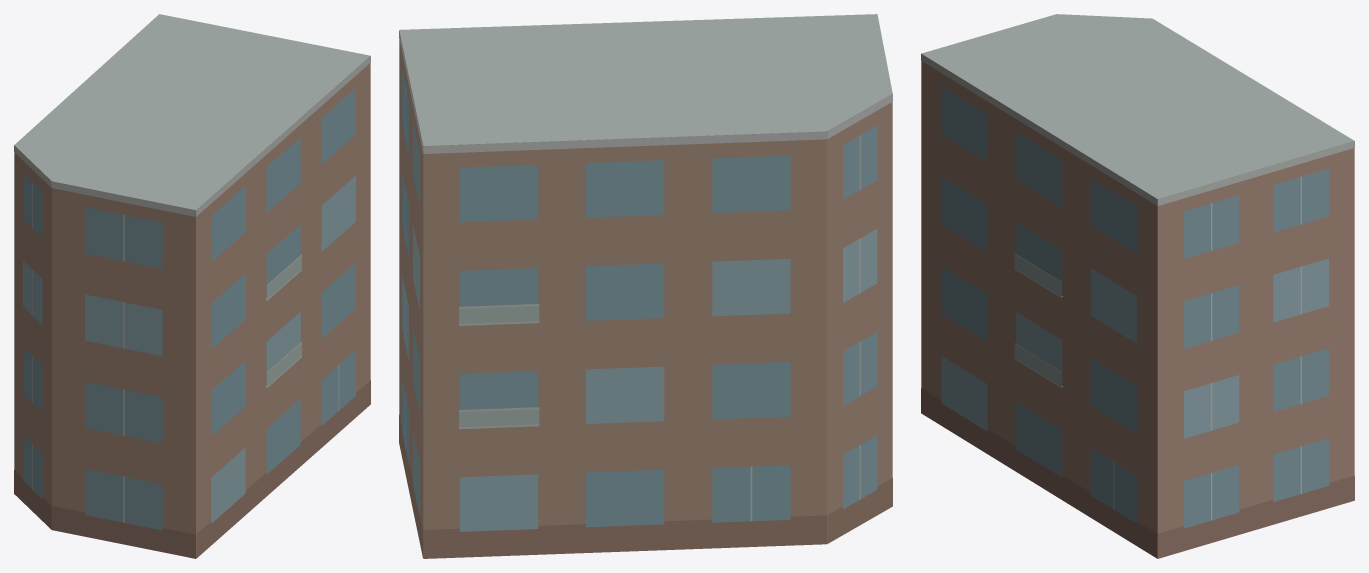
Rendered from survey-upis-32811882.glb.
3 renders of one model, left to right at view 1: azimuth 30°, elevation 25°; view 2: azimuth 150°, elevation 25°; view 3: azimuth 270°, elevation 25°, orthographic. The views are drawn at different scales.
Visible parts, largest first — view 1: survey-upis-32811882.tmp; view 2: survey-upis-32811882.tmp; view 3: survey-upis-32811882.tmp.
Part boxes in pixels (box(x1,y1,x2,y2)): survey-upis-32811882.tmp: box(14, 14, 370, 558); survey-upis-32811882.tmp: box(399, 14, 892, 558); survey-upis-32811882.tmp: box(921, 14, 1354, 558).
Bounding box in the file's own units: 13.92 × 12.6 × 13.78.
